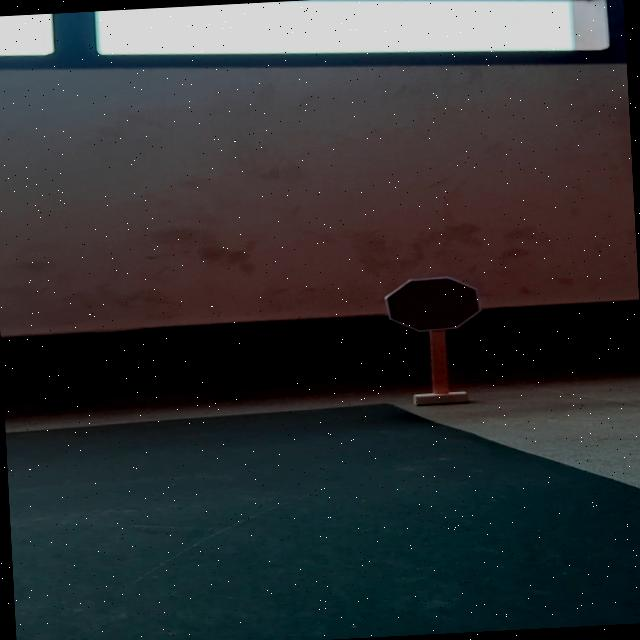Stop: (383, 274, 484, 334)
